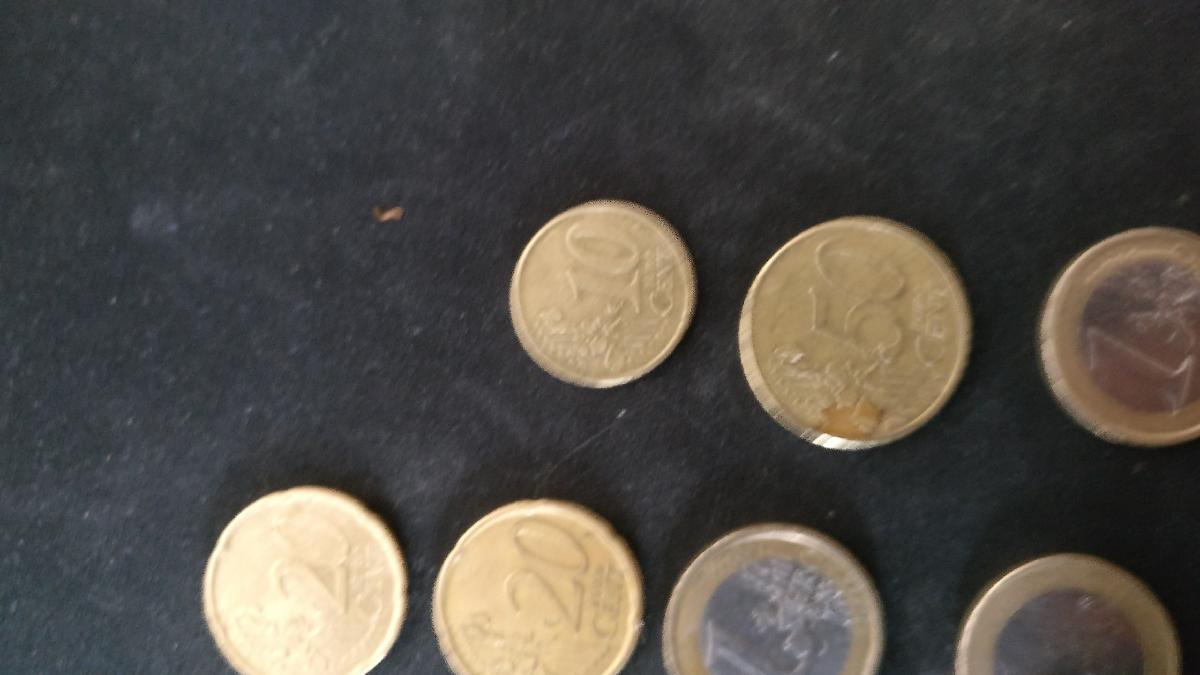Fifty Cent: (737, 215, 976, 450)
One Euro: (1039, 223, 1200, 451), (663, 525, 883, 675), (952, 551, 1180, 675)
Ten Cent: (505, 203, 700, 386)
Twenty Cent: (201, 485, 412, 675), (430, 502, 643, 675)
